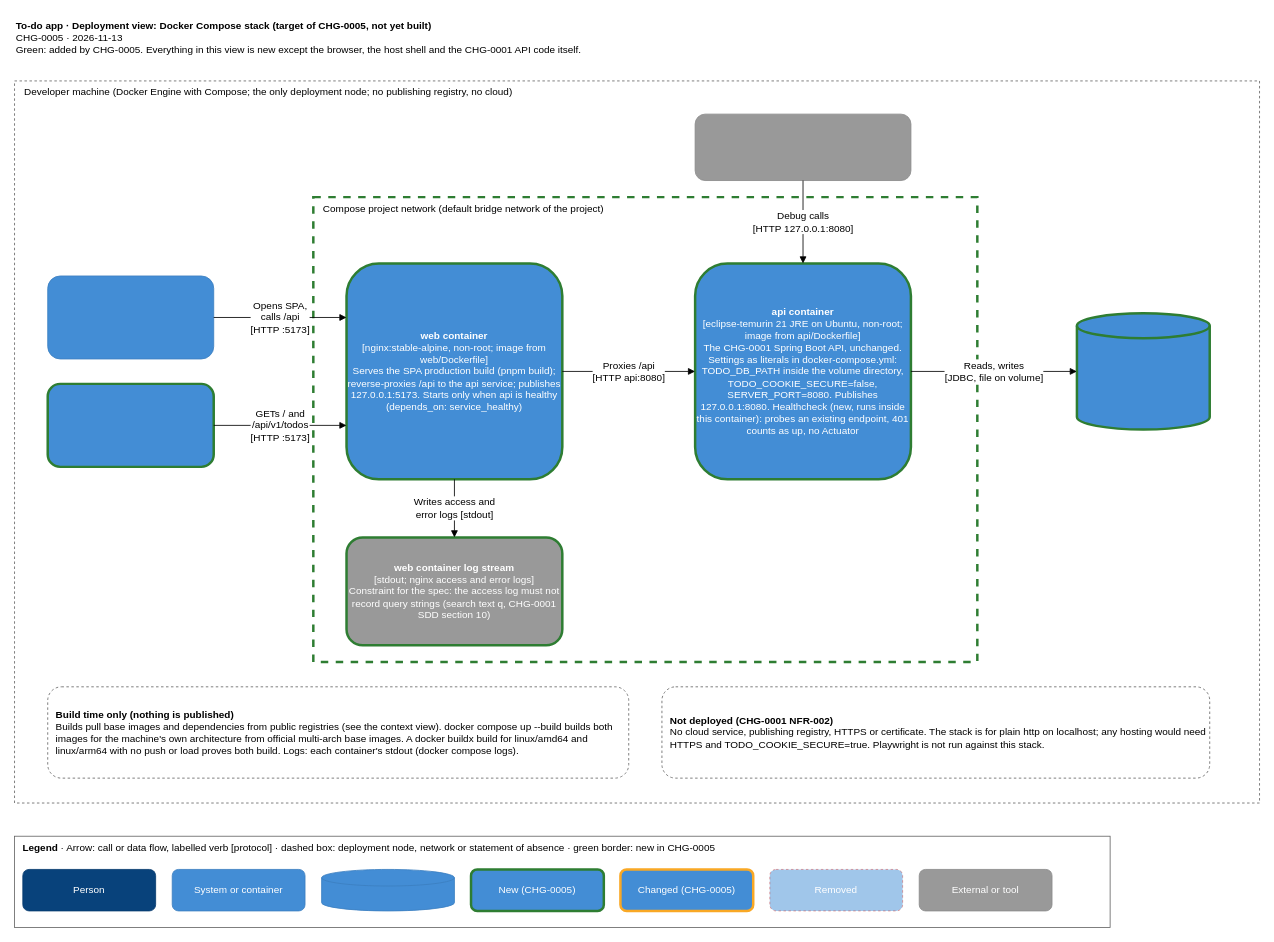
The diagram is 1274 pixels wide and 942 high, and some of its shapes have lost their labels. Here are the shapes that lost their labels. From the top down, the centre of each, then its label:
At pixel 802 147: "Host shell (curl) [debugging by the person]".
At pixel 130 317: "Web browser [any current browser] Keeps the todo_session cookie".
At pixel 1143 371: "Named volume [SQLite file todo.db] Survives down; removed by down -v".
At pixel 130 425: "Smoke-check script [Node.js, run on the host] No credentials, no data created".
At pixel 387 890: "Datastore".
